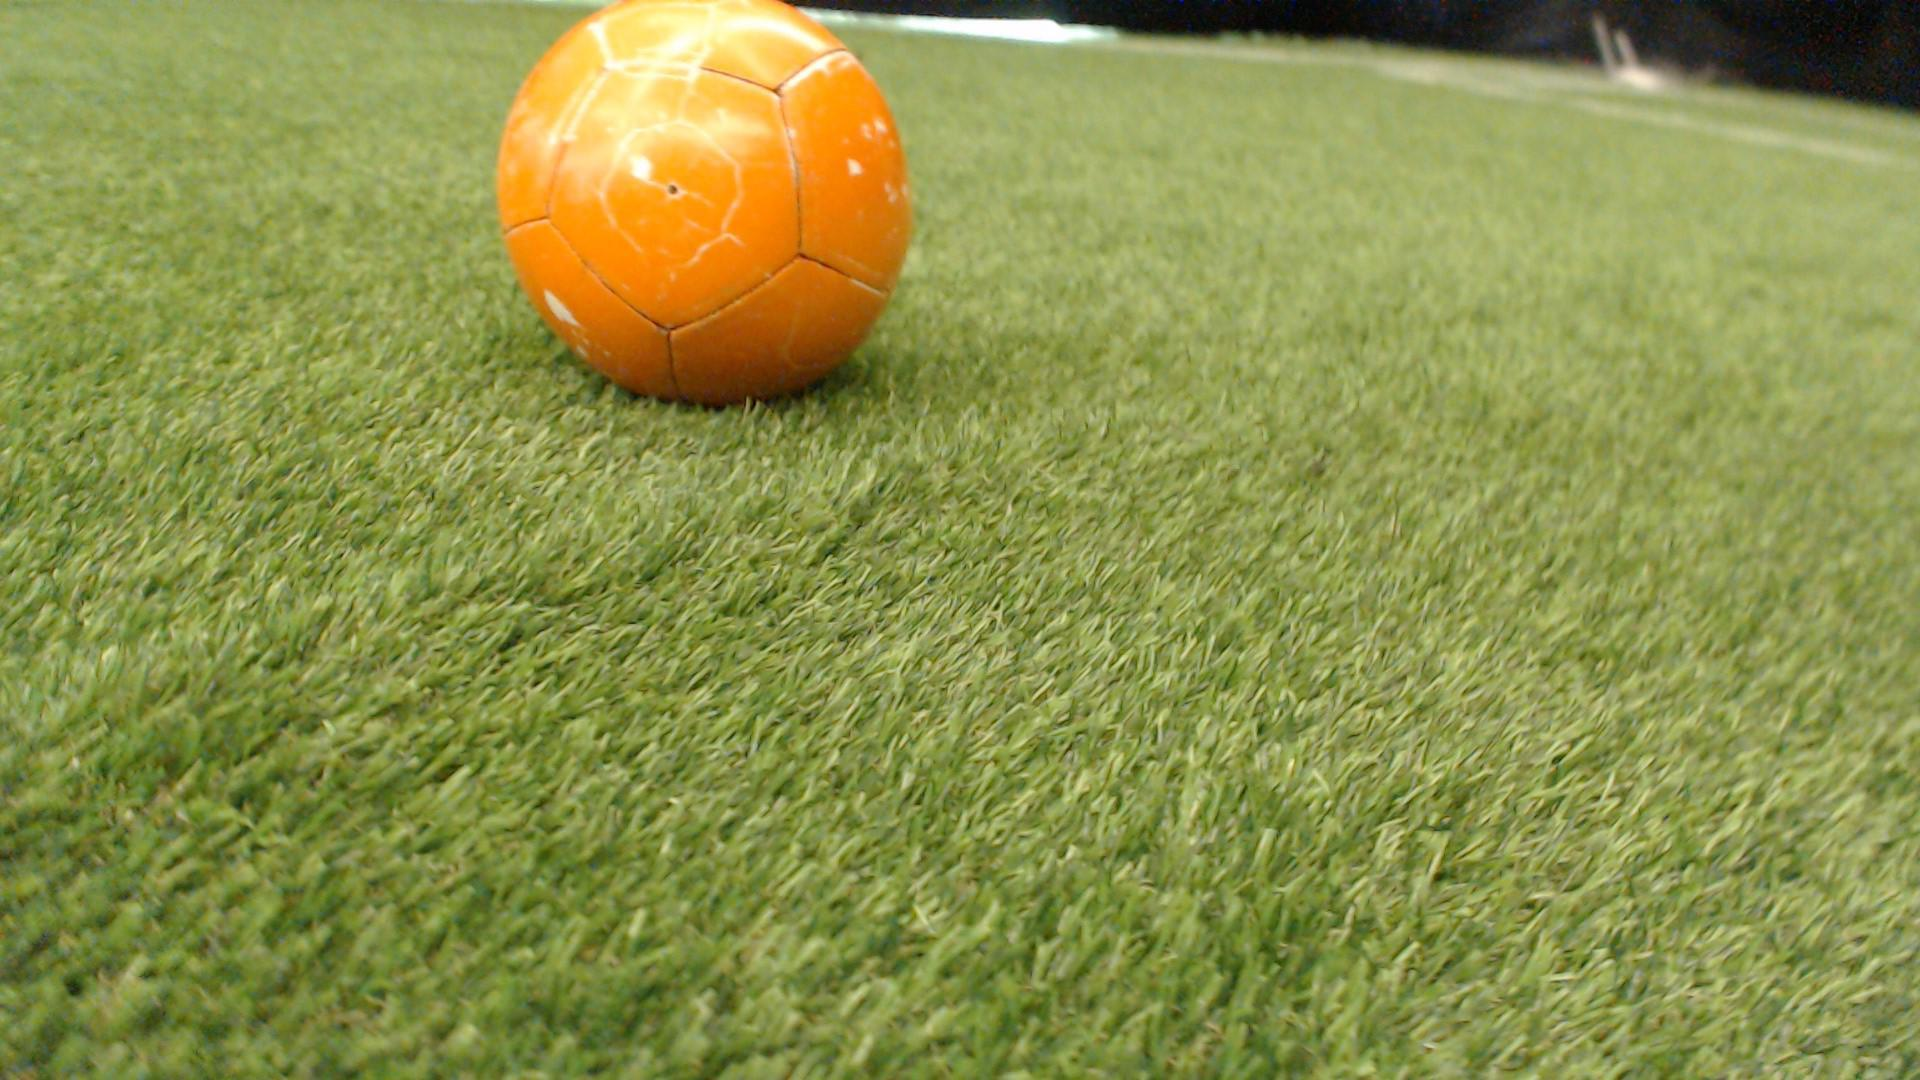bola: (458, 0, 952, 422)
